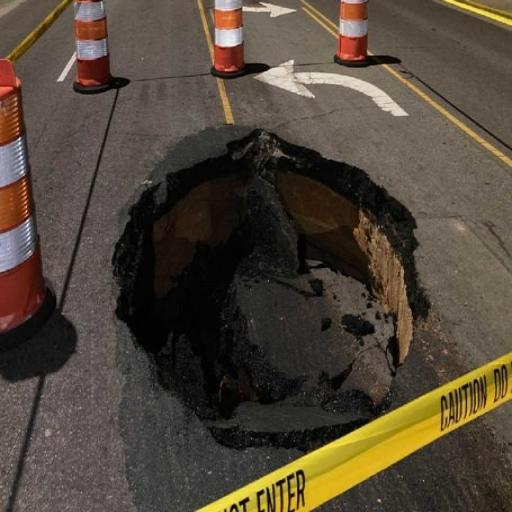Concentric_Crack: (114, 130, 429, 448)
